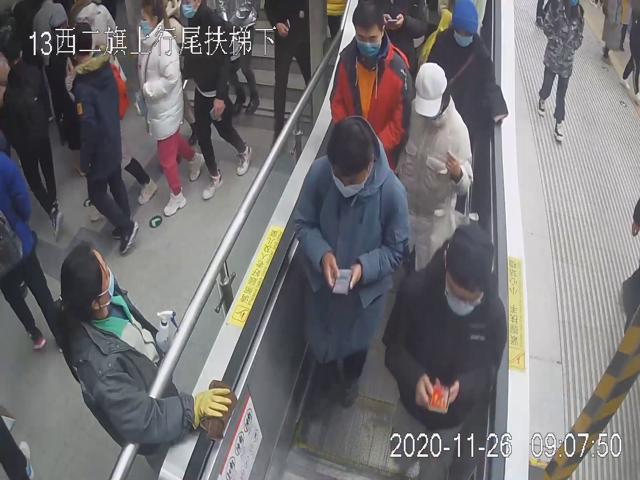person: (49, 241, 232, 453), (292, 116, 408, 422), (382, 220, 507, 480), (389, 59, 473, 276), (68, 20, 138, 256), (132, 0, 204, 219), (330, 0, 412, 172), (424, 0, 508, 156)
